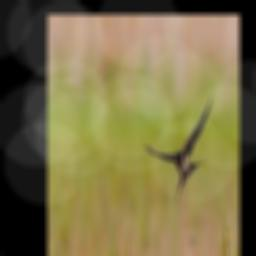Swallow: (145, 99, 210, 198)
